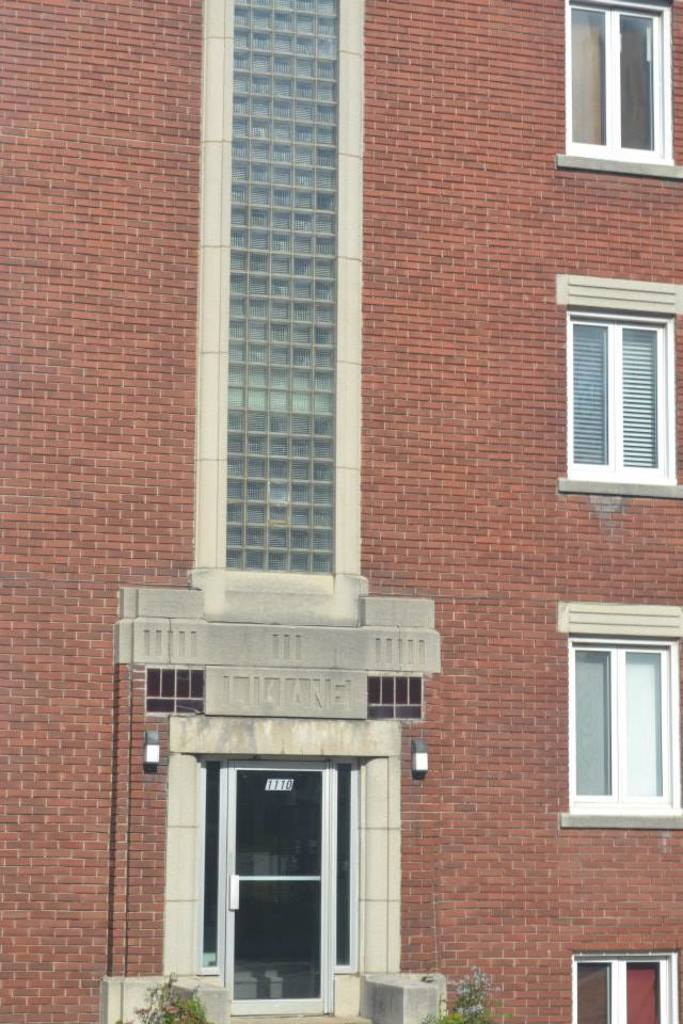Door: (215, 761, 337, 1015)
